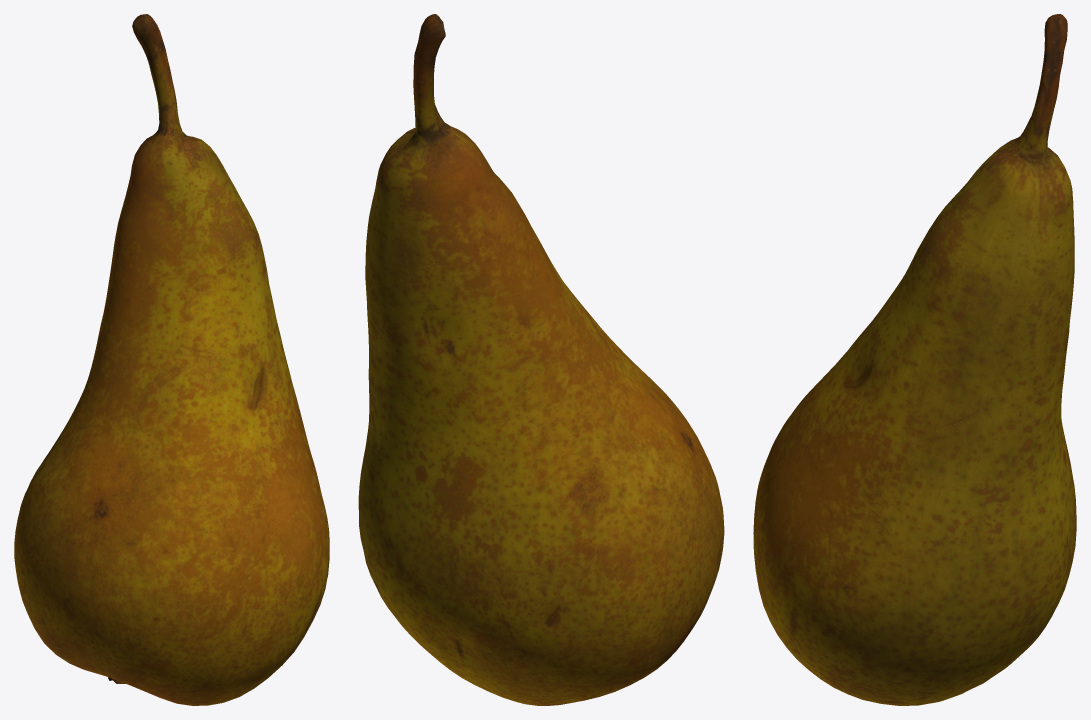
File: pera.gltf
The picture shows the model from 3 angles, left to right: view 1: azimuth 30°, elevation 25°; view 2: azimuth 150°, elevation 25°; view 3: azimuth 270°, elevation 25°; orthographic projection. The views are drawn at different scales.
Parts seen in each view (by area): view 1: Object_2.001; view 2: Object_2.001; view 3: Object_2.001.
Boxes of the visible parts, <box> form: Object_2.001: <box>14,14,329,705</box>; Object_2.001: <box>358,14,724,705</box>; Object_2.001: <box>753,14,1076,705</box>.
Bounding box in the file's own units: 2.03 × 4.46 × 1.88.
Materials: 1 (1 with a texture image).
